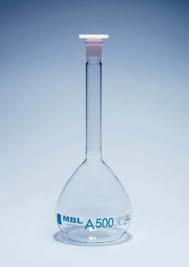Volumetric flask: (52, 25, 136, 245)
